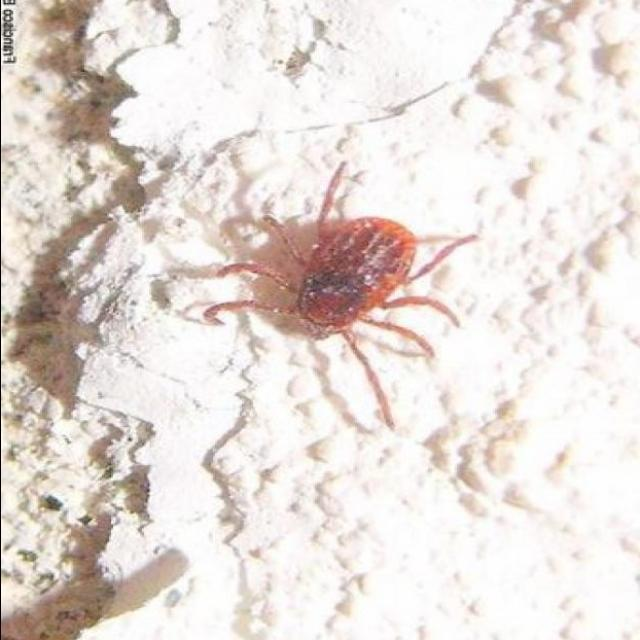Rhipicephalus Sanguineus-F: (183, 160, 475, 431)
